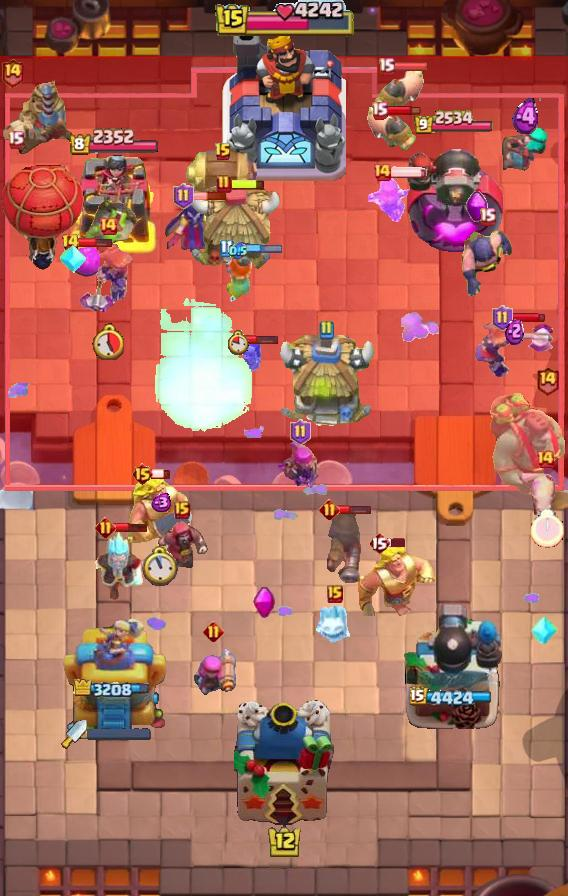archer-evolution: (276, 435, 324, 491), (368, 175, 418, 225)
bar: (231, 243, 282, 255), (230, 178, 266, 191), (390, 166, 428, 178), (510, 312, 546, 324), (78, 237, 113, 249), (386, 104, 421, 116), (113, 522, 149, 533), (392, 61, 428, 72), (337, 504, 372, 515), (244, 334, 279, 345), (192, 191, 227, 201), (151, 468, 171, 480), (387, 537, 407, 548)
bar-level: (535, 365, 560, 396), (0, 57, 25, 88), (131, 462, 154, 486), (290, 419, 311, 445), (492, 305, 513, 331), (173, 183, 194, 209), (368, 531, 390, 555), (203, 621, 224, 642), (95, 517, 116, 538), (319, 499, 340, 520), (535, 449, 555, 469), (98, 216, 118, 236), (372, 162, 392, 182), (61, 233, 80, 253), (214, 142, 232, 162), (479, 207, 496, 226), (7, 130, 24, 149), (371, 101, 388, 120), (378, 57, 395, 76), (318, 320, 334, 340), (216, 174, 232, 194), (327, 585, 343, 603), (174, 501, 190, 519), (219, 239, 234, 258)
barbarian-barrel: (185, 150, 261, 200)
cannoneer-tower: (403, 601, 503, 731), (401, 138, 505, 256)
clock: (142, 546, 178, 587), (530, 509, 564, 548), (92, 323, 124, 360), (228, 330, 249, 355)
dagger-duchess-tower: (62, 615, 167, 731)
dagger-duchess-tower-bar: (87, 728, 151, 740)
elixir: (512, 98, 541, 136), (505, 317, 524, 345), (149, 493, 172, 512), (229, 242, 247, 260)
elixir-golem-small: (68, 247, 100, 277)
evolution-symbol: (252, 586, 276, 621), (466, 190, 489, 224)
executioner: (460, 228, 514, 298)
firecracker: (188, 646, 238, 700)
goblin-ball: (81, 197, 139, 245)
hog: (528, 470, 562, 526)
ice-spirit: (313, 606, 357, 646)
ice-spirit-evolution-symbol: (530, 613, 558, 647), (58, 244, 88, 274)
ice-wizard: (87, 530, 145, 602)
king-tower: (222, 31, 346, 181), (234, 700, 334, 826)
king-tower-bar: (214, 0, 355, 40)
musketeer: (326, 509, 364, 585)
queen-tower: (69, 154, 159, 256)
rascal-girl: (502, 126, 550, 174)
royal-hog: (366, 107, 418, 151), (373, 70, 425, 114)
skeleton-evolution: (237, 338, 263, 374)
tower-bar: (68, 128, 160, 157), (413, 110, 494, 136), (410, 687, 496, 709), (74, 679, 155, 701)
valkyrie: (219, 253, 257, 305)
valkyrie-evolution: (473, 315, 556, 379), (78, 241, 138, 321)
witch: (162, 193, 238, 255)
wizard: (155, 518, 209, 576)
